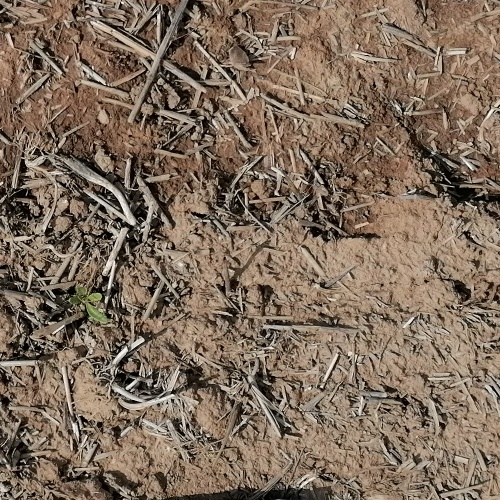beet: (67, 284, 106, 323)
